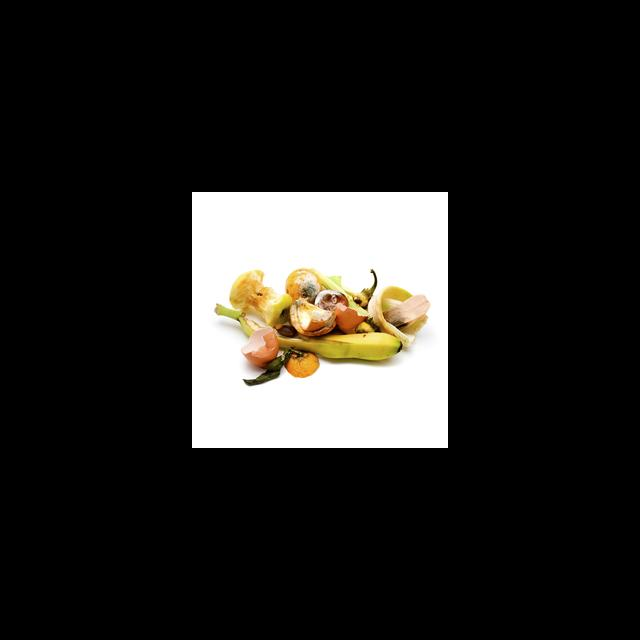food_waste: (217, 269, 430, 377)
